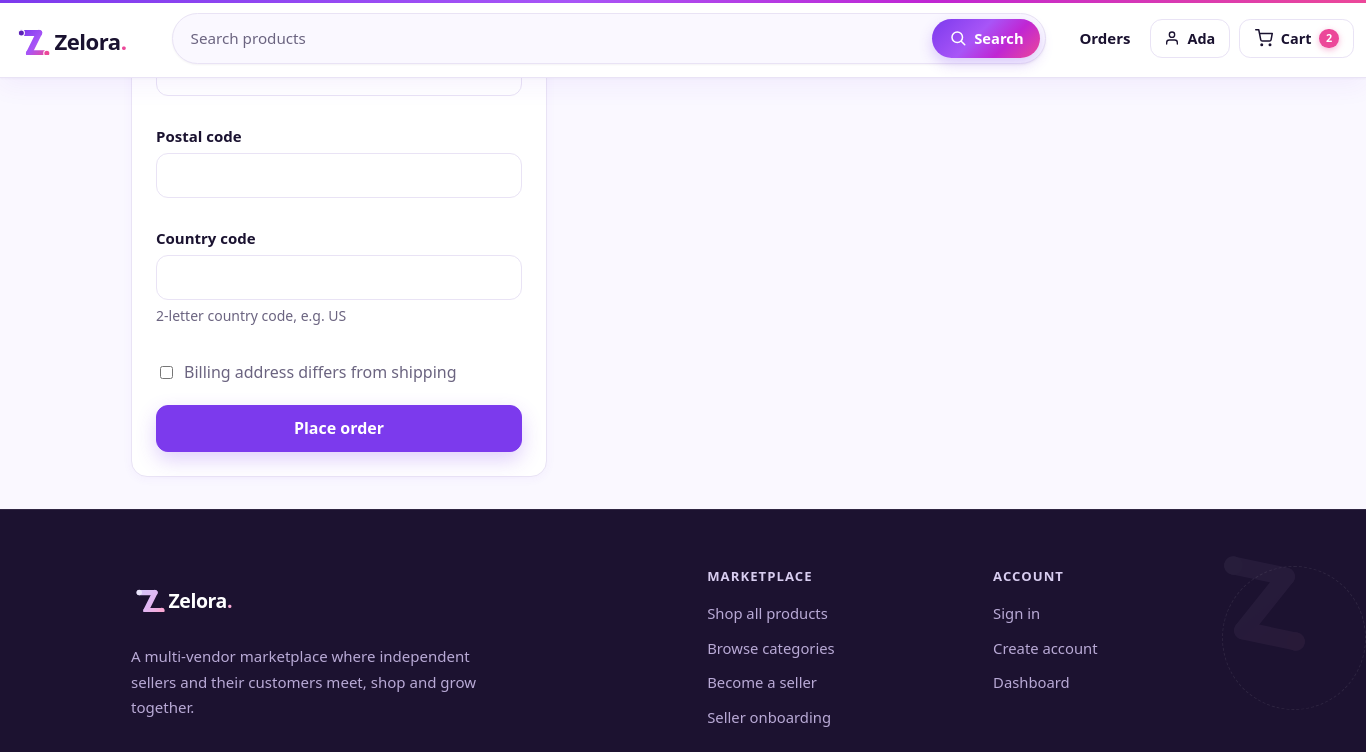
CheckoutPage › refuses to submit an address the shopper has not finished
(page scrolled)
Click the button "Place order".
click(339, 429)  # box [156,405,522,452]
(page scrolled)
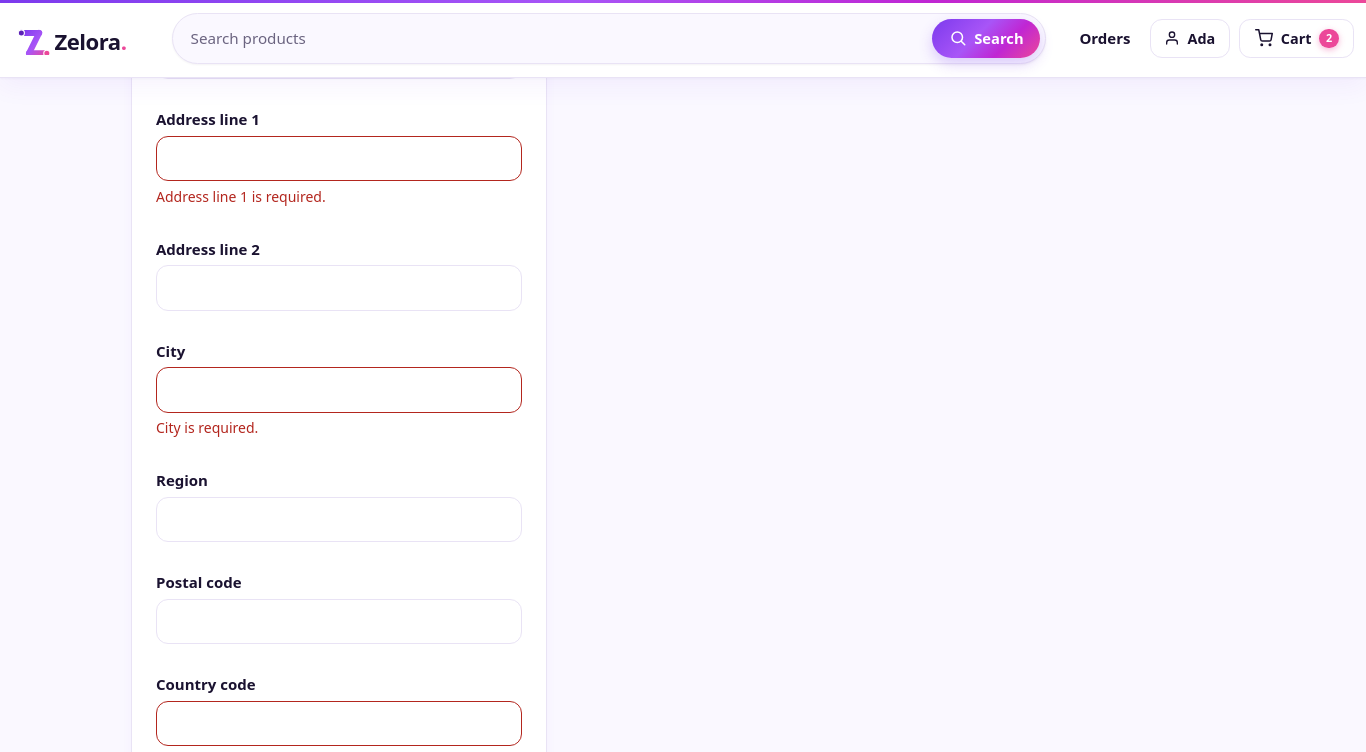
Result: the text "City is required." is shown at [156,418,258,437]
